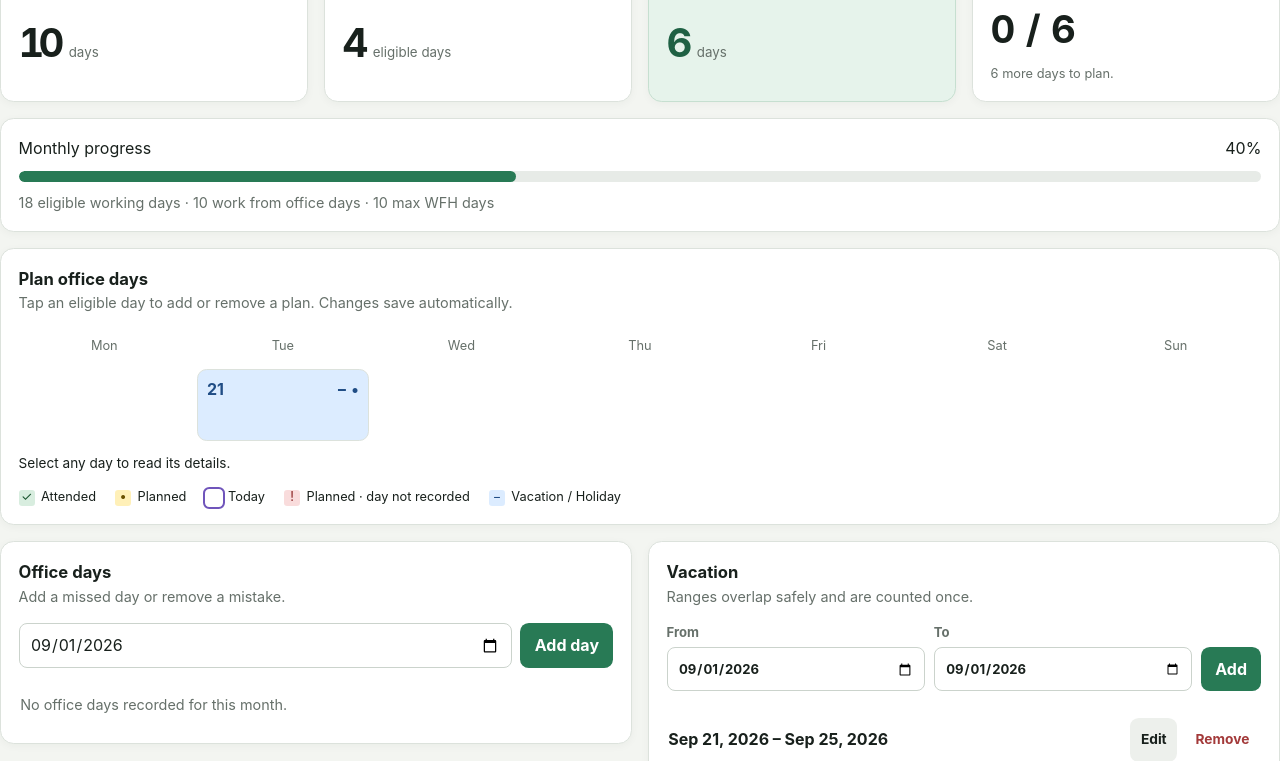
Test case: refreshes vacation dates, calendar, planning count and summary after a vacation edit
The width and height of the screenshot is (1280, 761).
Expected: the button "21 − •" is shown, x1=197 y1=369 x2=369 y2=441
Click the button with aria-label "Edit vacation" at (1154, 740), box x1=1130 y1=718 x2=1177 y2=760
(page scrolled)
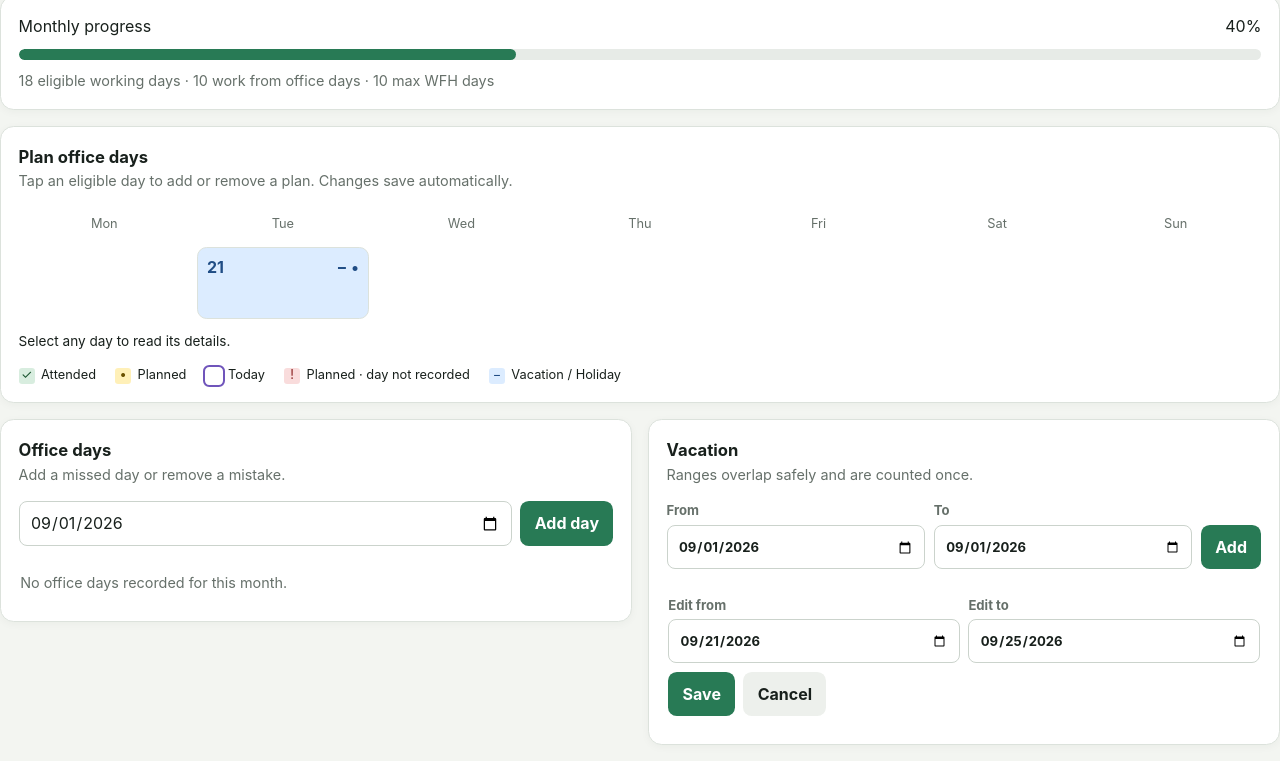
Type "2026-09-22" into the date field labelled "Edit from" at (814, 641), box x1=668 y1=619 x2=960 y2=663
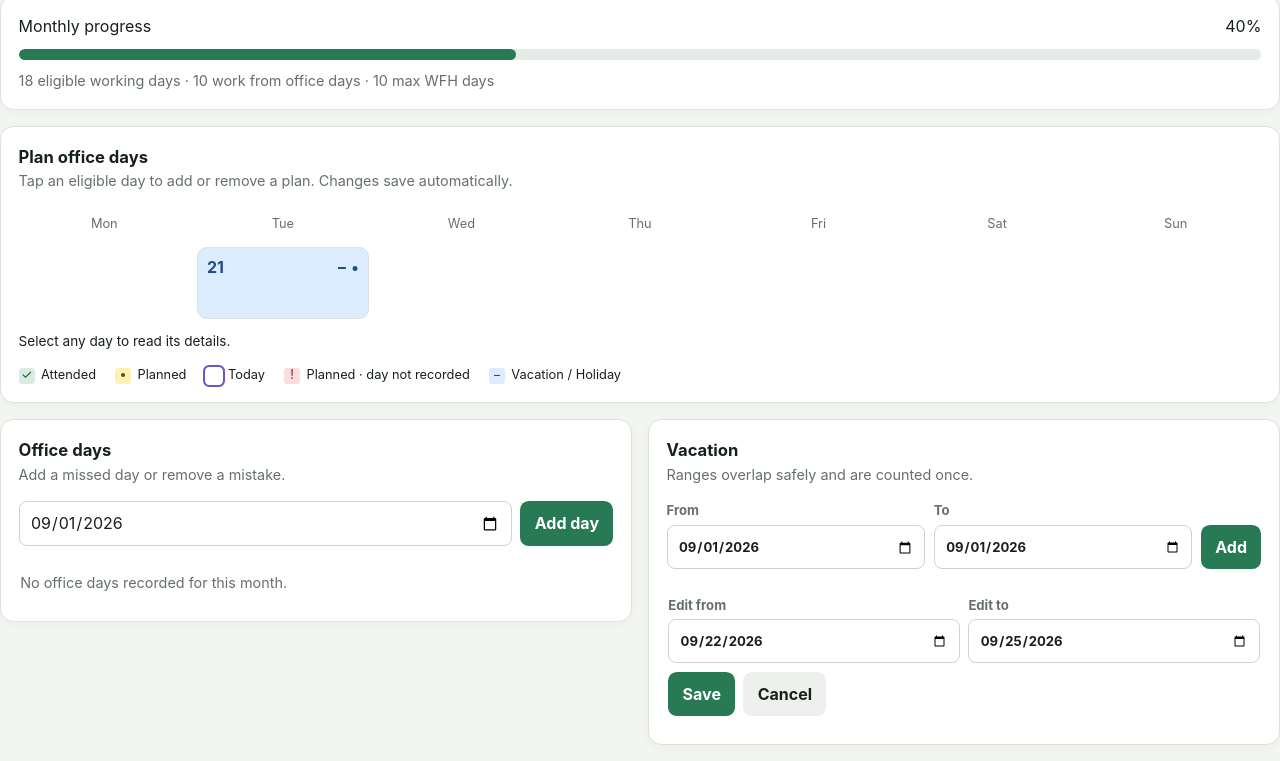
Type "2026-09-22" into the date field labelled "Edit to" at (1114, 641), box x1=968 y1=619 x2=1260 y2=663
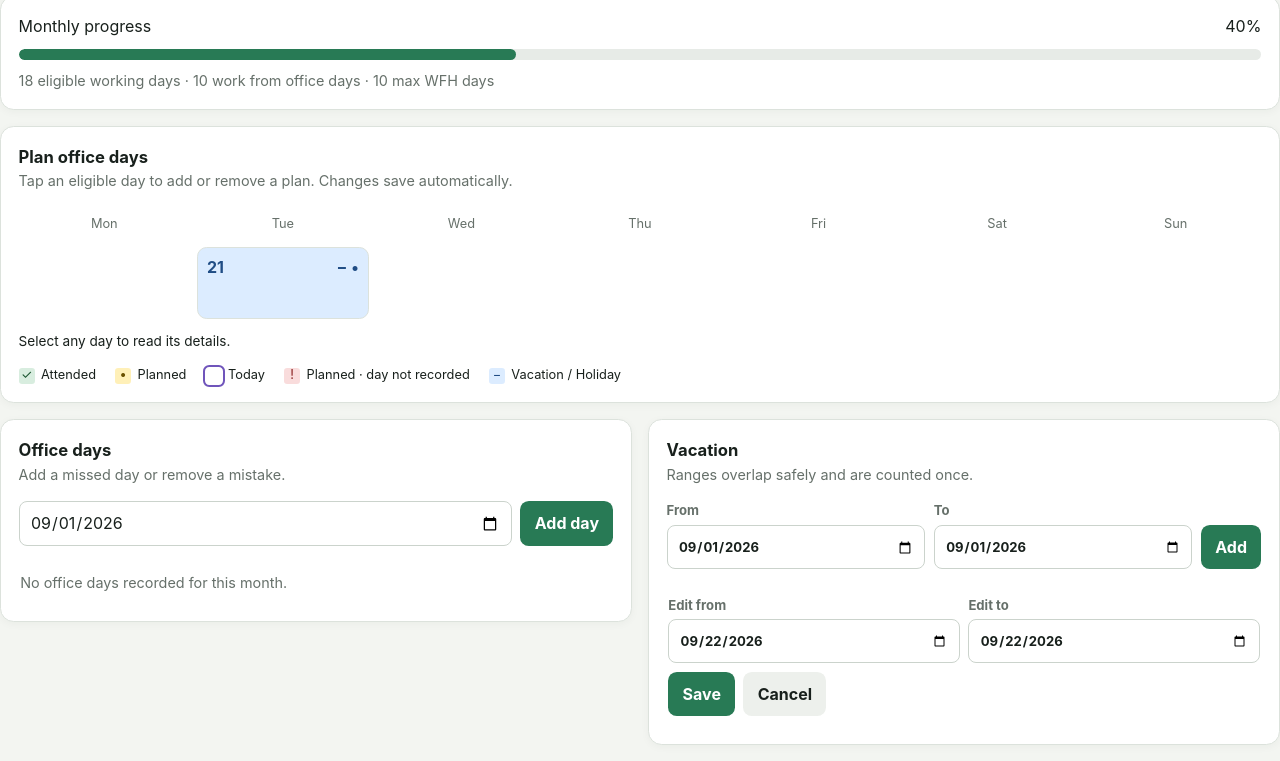
Submit the form "Save", box x1=668 y1=596 x2=1260 y2=716
(page scrolled)
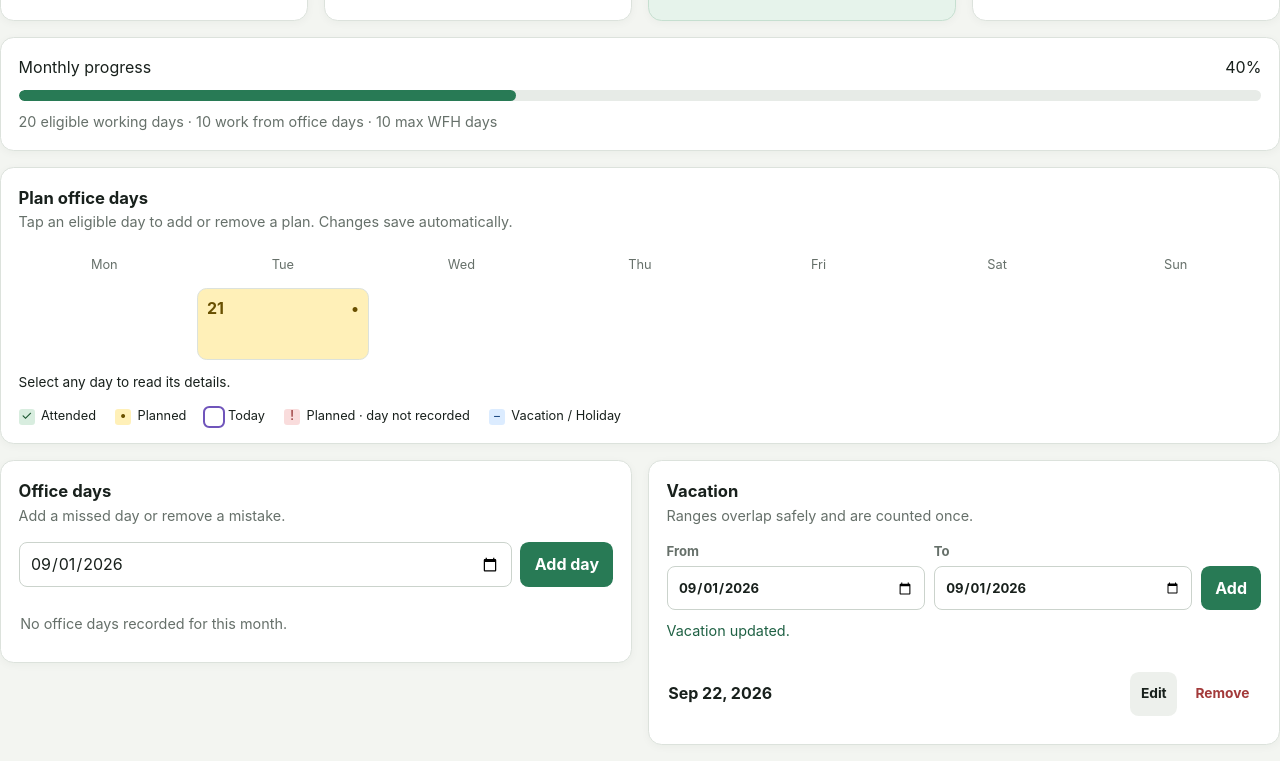
Expected: the button with aria-label "Edit vacation Sep 22" is shown, x1=1130 y1=672 x2=1177 y2=716
Expected: the button "21 •" is shown, x1=197 y1=288 x2=369 y2=360
Expected: the text "20 eligible working days" is shown, x1=19 y1=113 x2=497 y2=130
